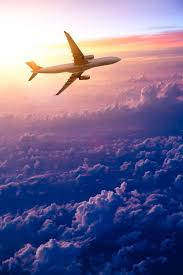plane: (26, 30, 122, 96)
